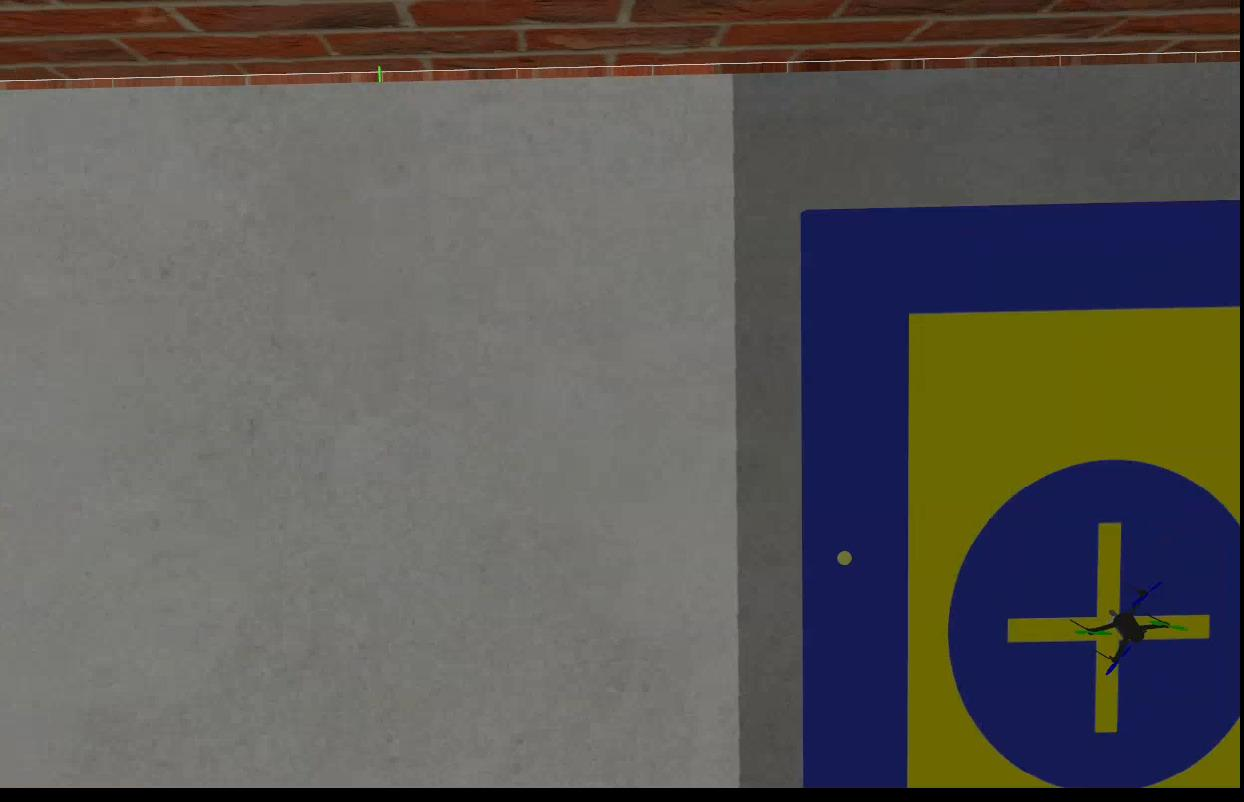large_base: (802, 196, 1239, 792)
